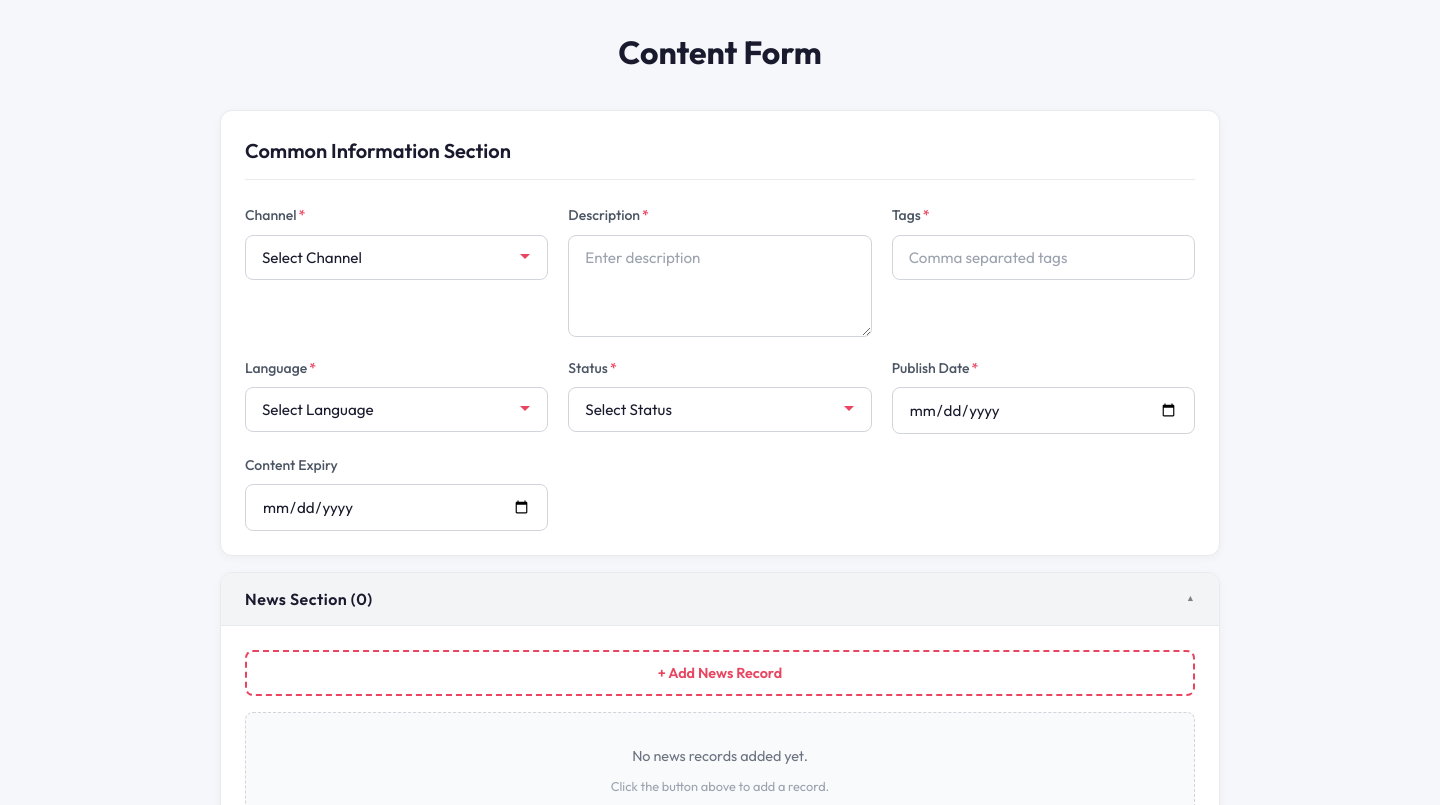
it: FormPage › shows success message when all mandatory fields are filled and API succeeds
Select "Janam Global" in the dropdown labelled "Channel*". click: [397, 257]
box: [245,235,548,280]
Type "Test description" into the text box labelled "Description*". click: [720, 286]
box: [568,235,872,337]
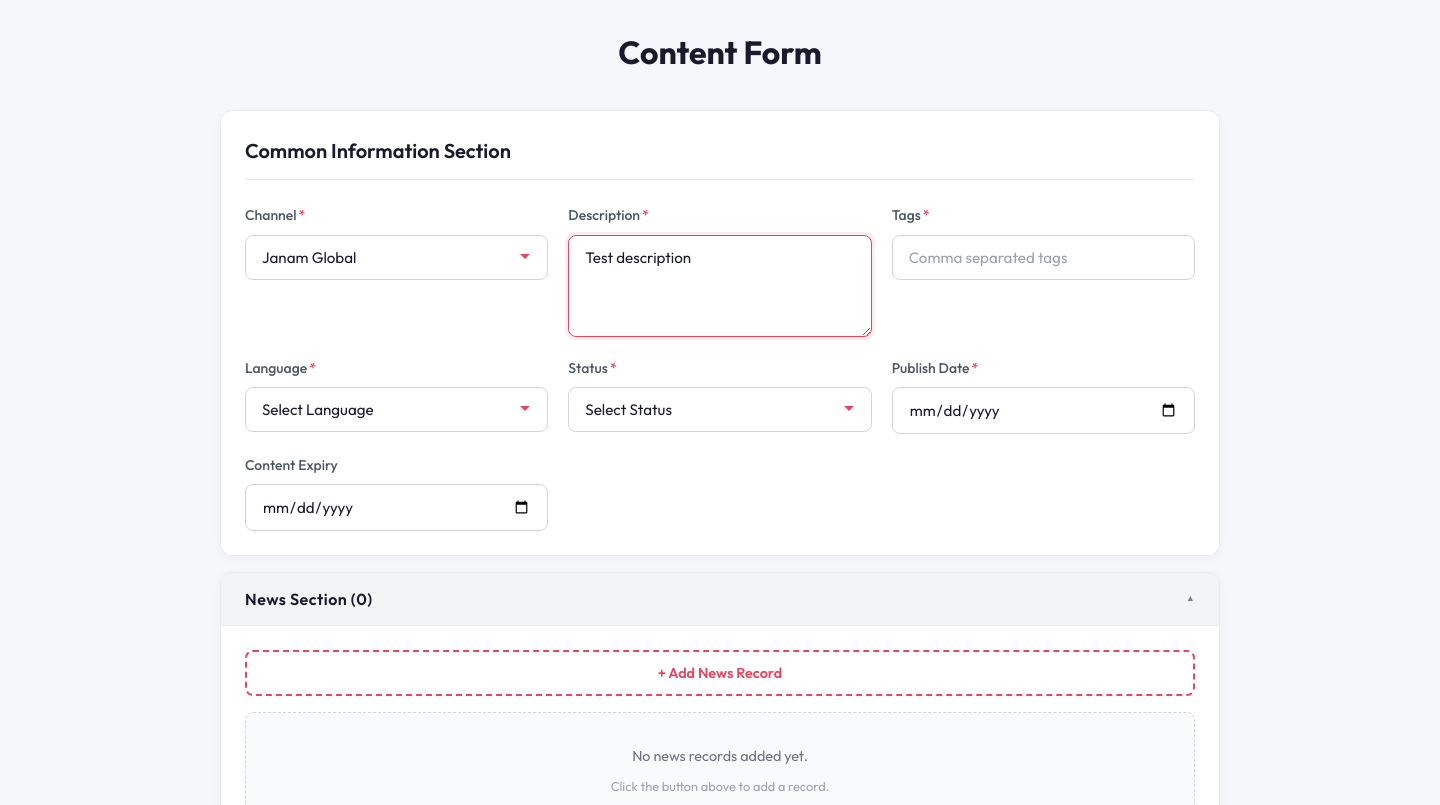
Type "tag1, tag2" into the field labelled "Tags*". click: [1043, 257]
box: [892,235,1195,280]
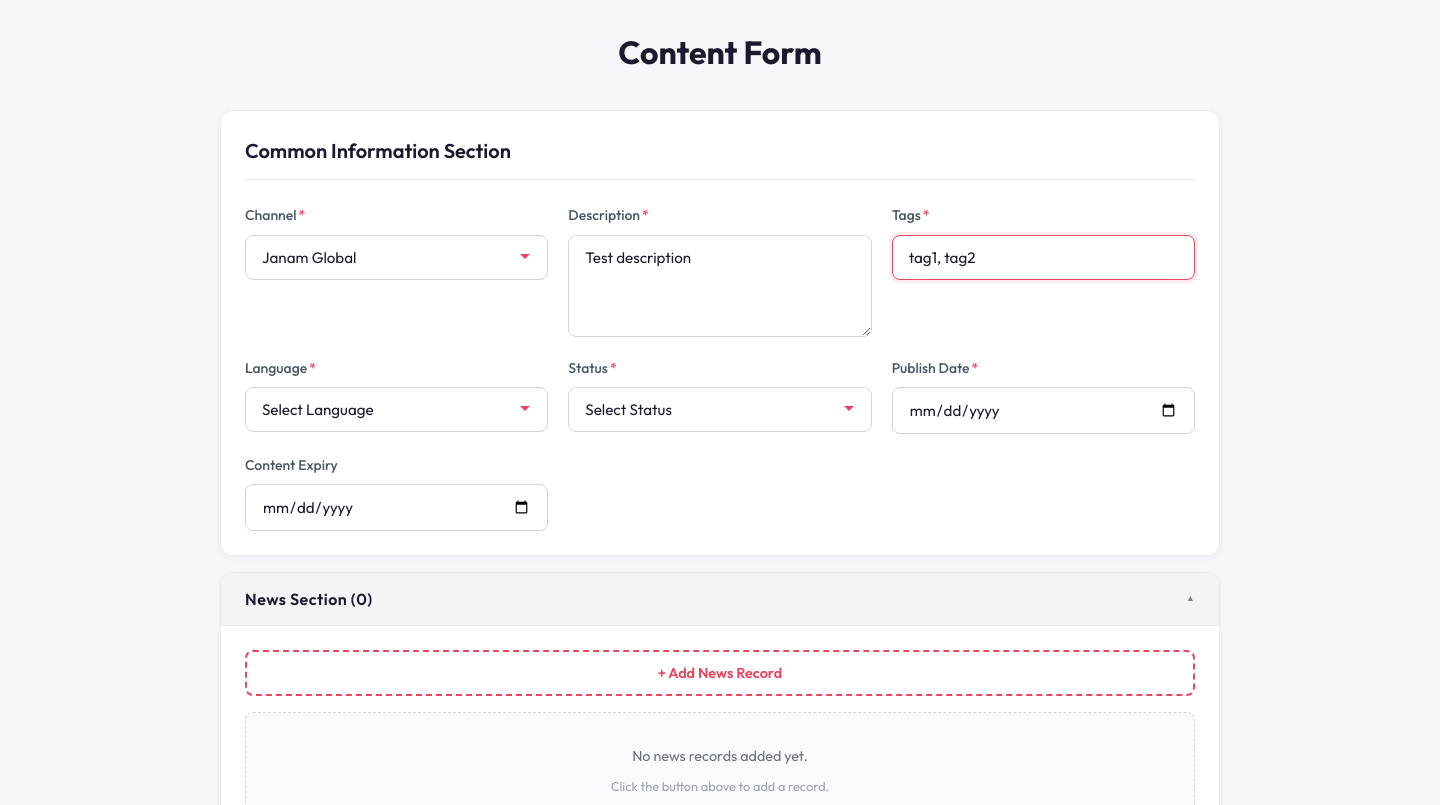
Select "Tamil" in the dropdown labelled "Language*". click: [397, 410]
box: [245,387,548,432]
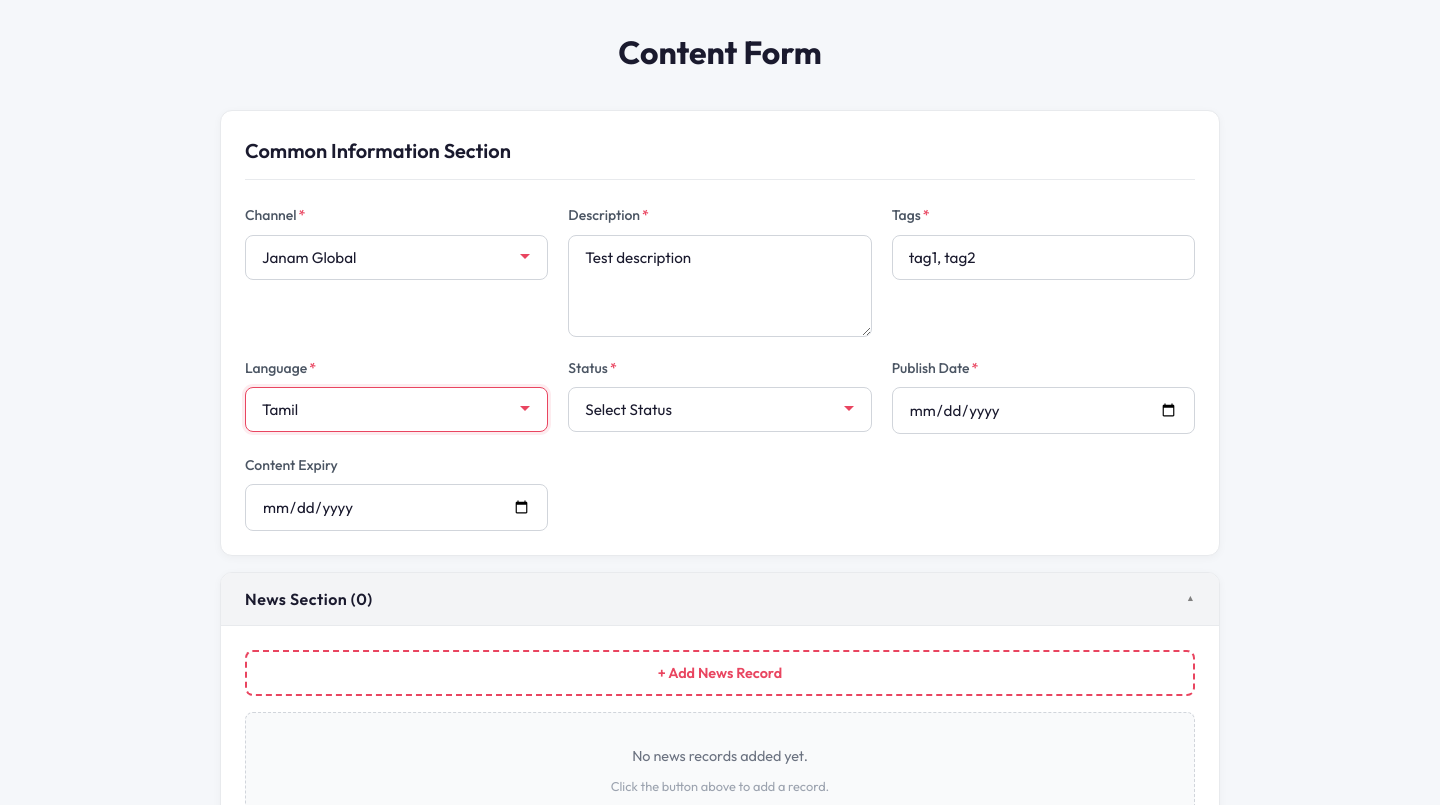
Select "Draft" in the dropdown labelled "Status*". click: [720, 410]
box: [568,387,872,432]
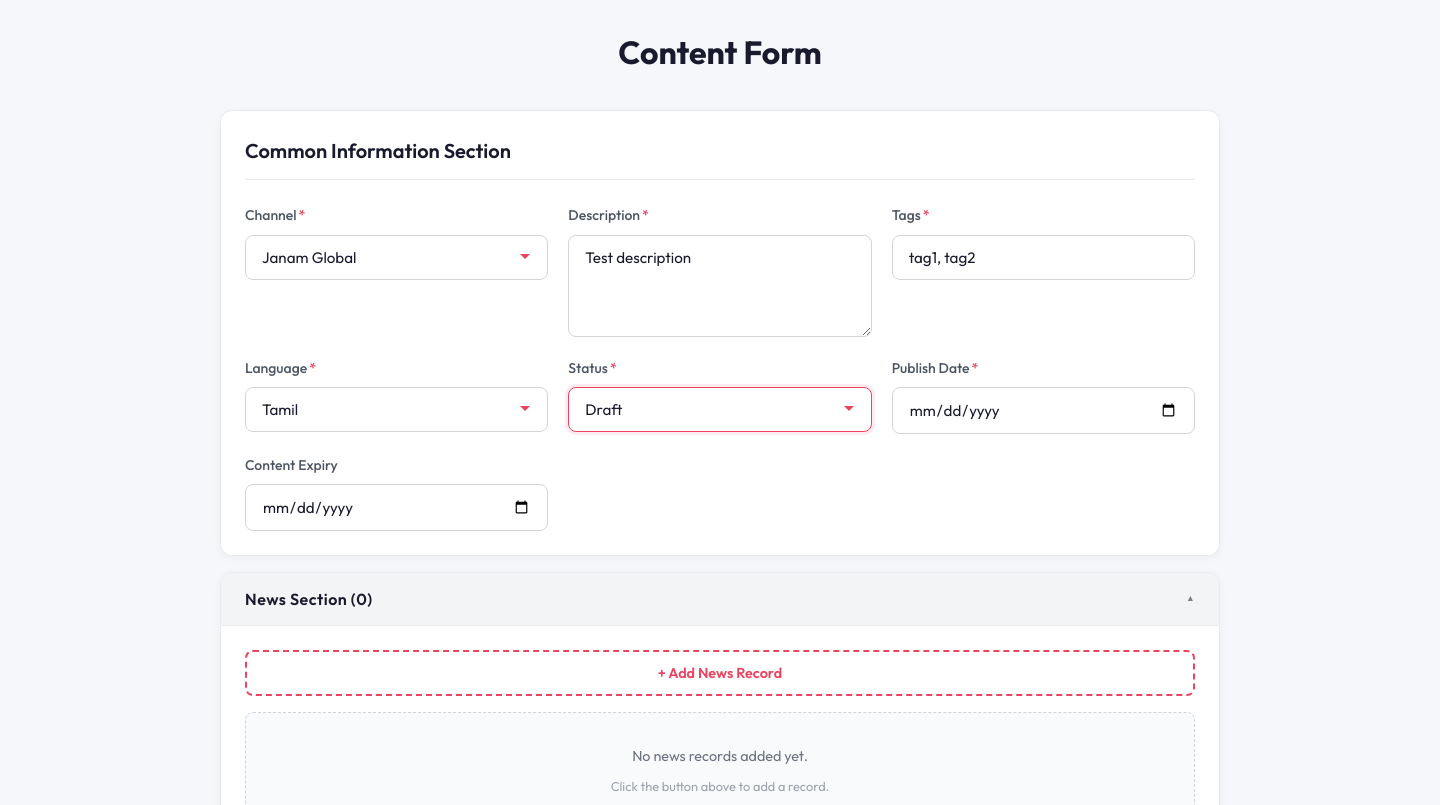
Type "2024-01-15" into the date field labelled "Publish Date*". click: [1043, 410]
box: [892,387,1195,434]
(page scrolled)
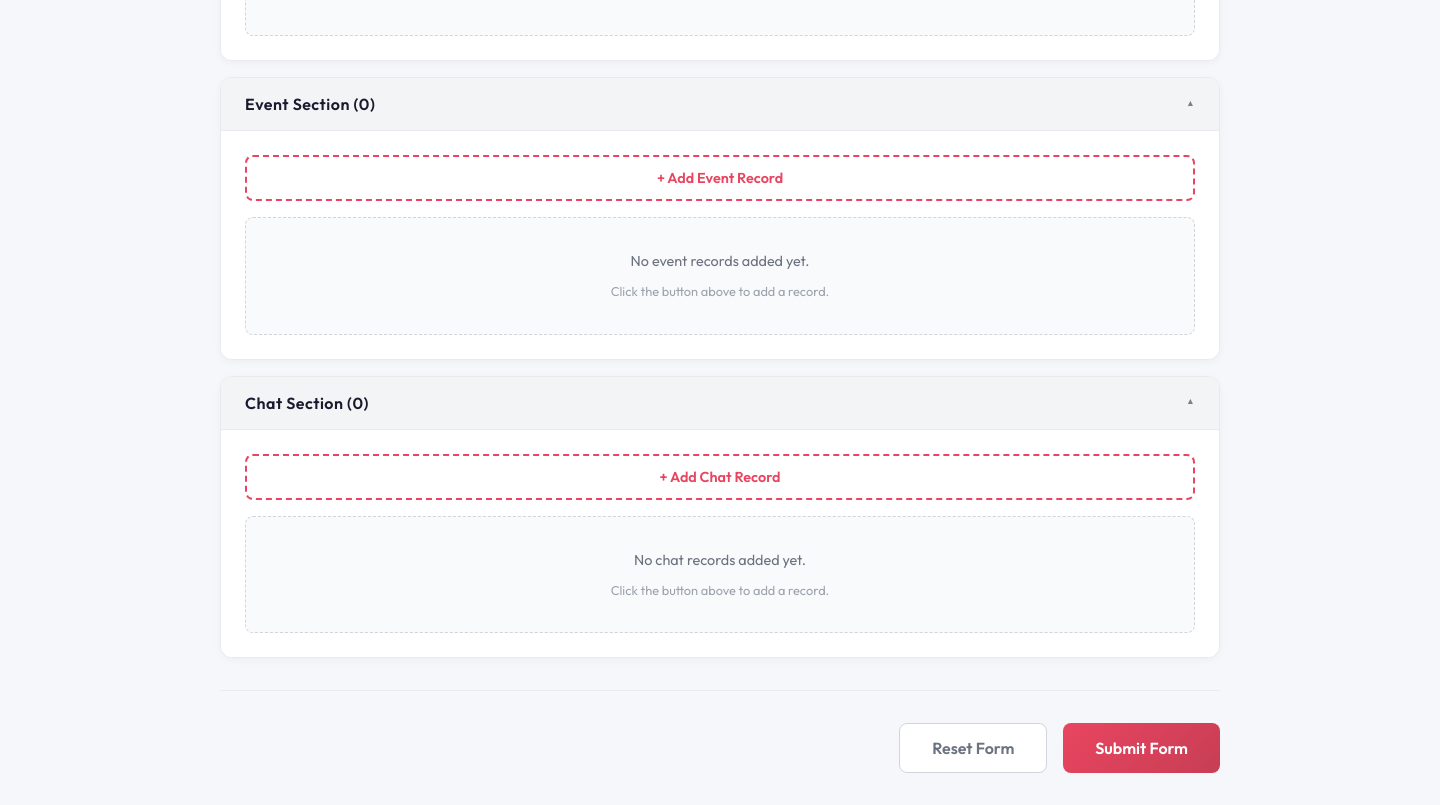
Click the button "Submit Form". click: [1142, 748]
box: [1063,723,1220,773]
(page scrolled)
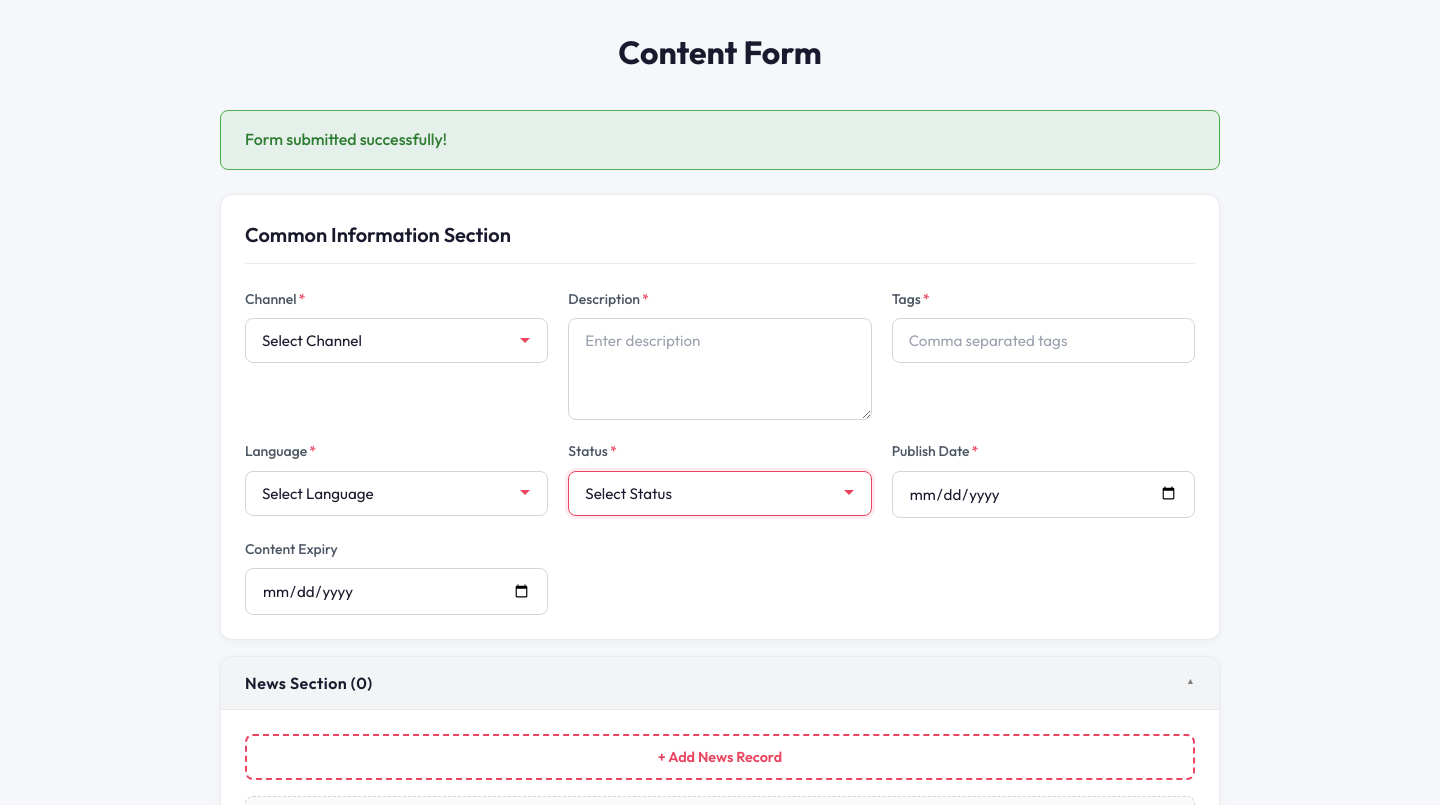
expect the text "Form submitted successfully!" is shown: met, box [220,110,1220,170]
